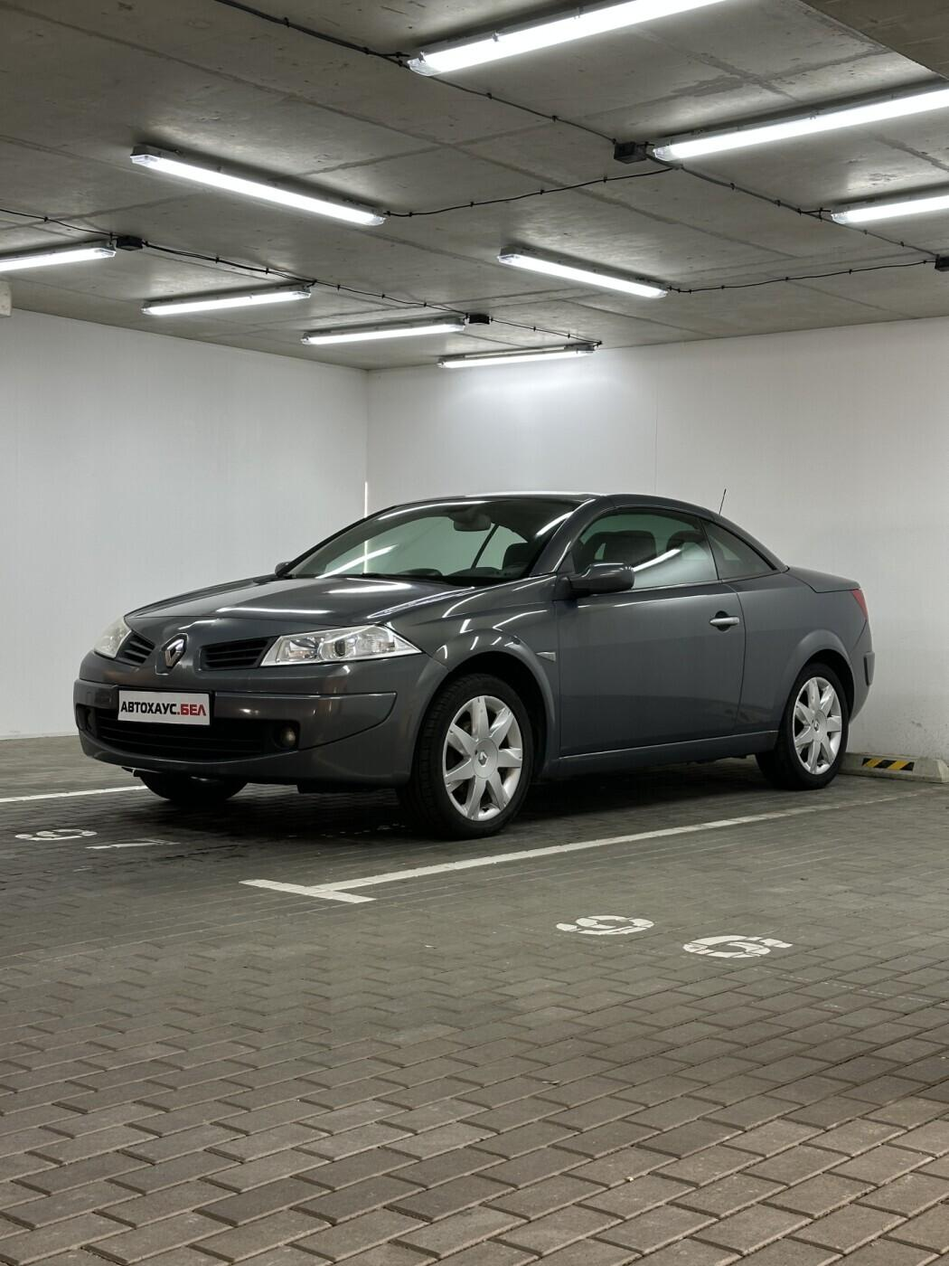Megane_2005-2009: (72, 479, 918, 881)
